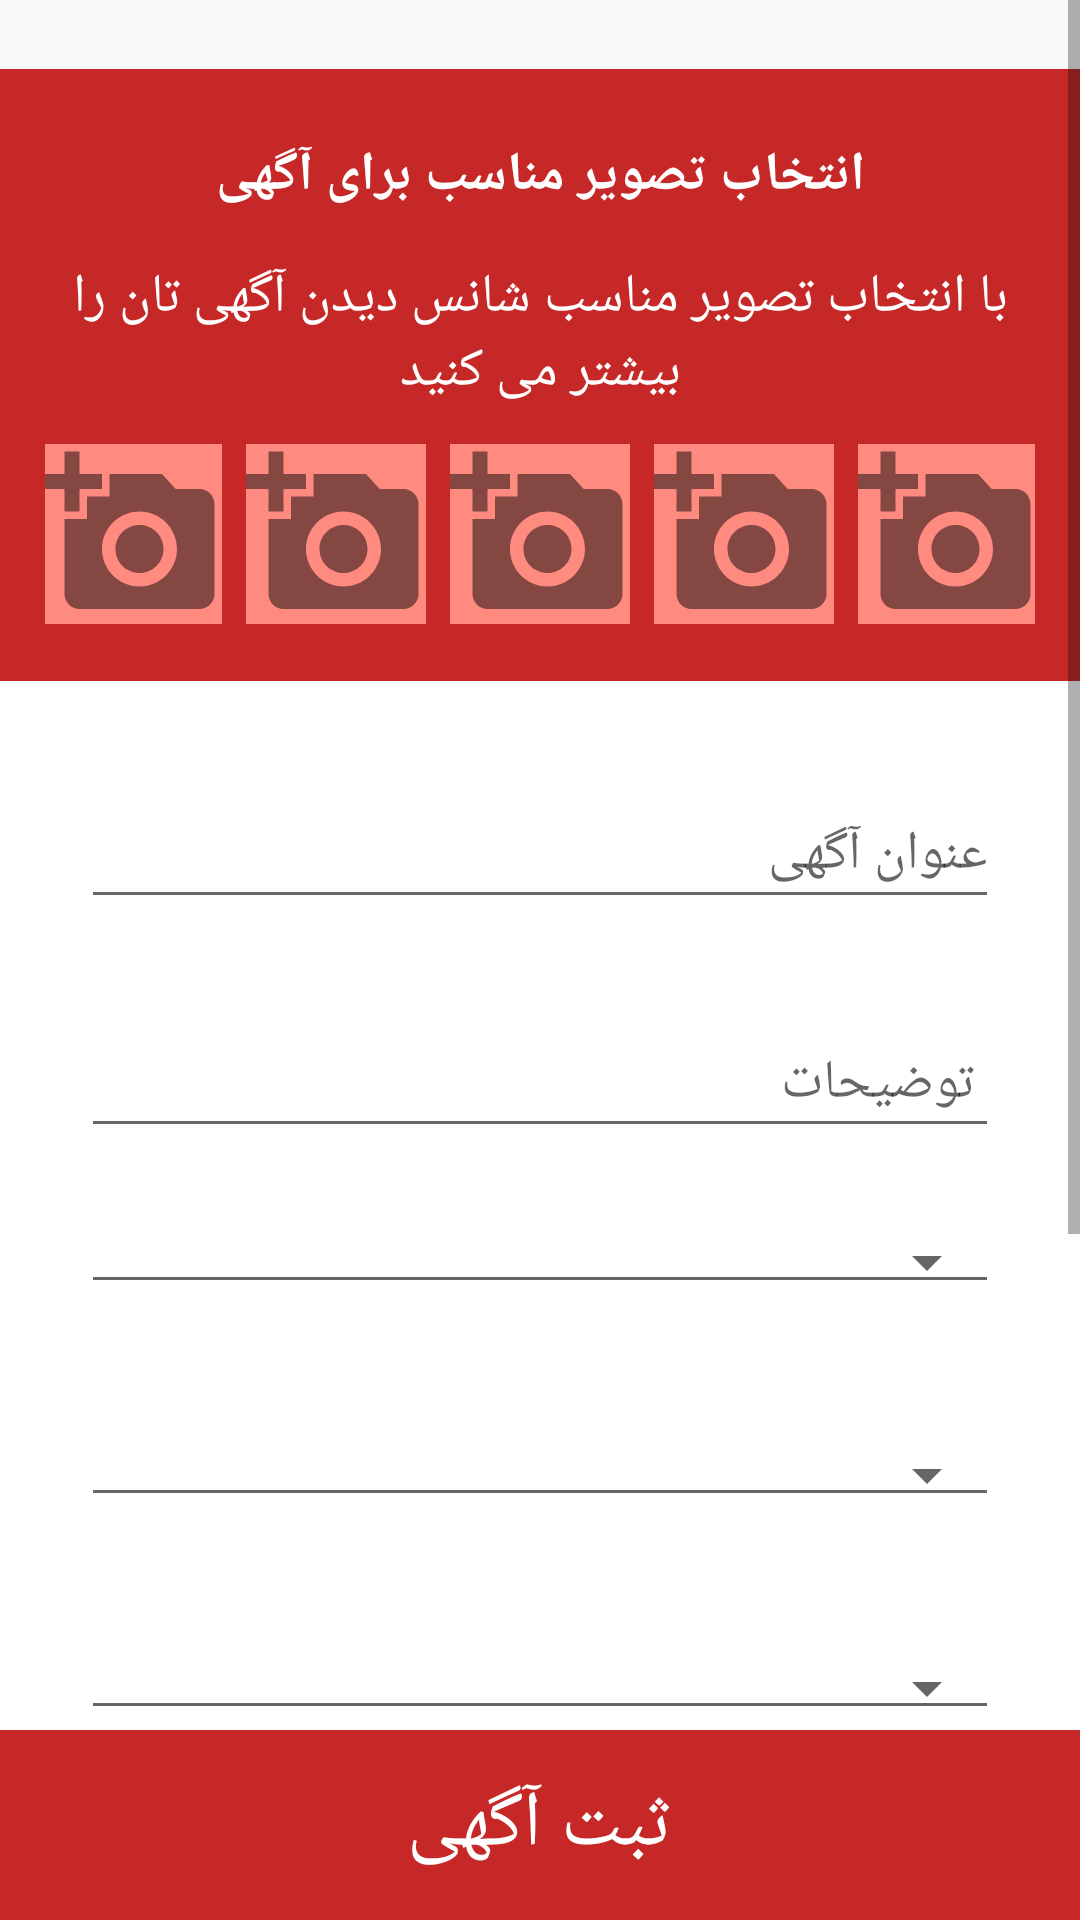

Icons on this 1080×1920 Android screen, each with its box as (x1, y1, x2, y2):
add photo: (45, 444, 222, 624), (246, 444, 426, 624), (450, 444, 630, 624), (654, 444, 834, 624), (858, 444, 1035, 624)
